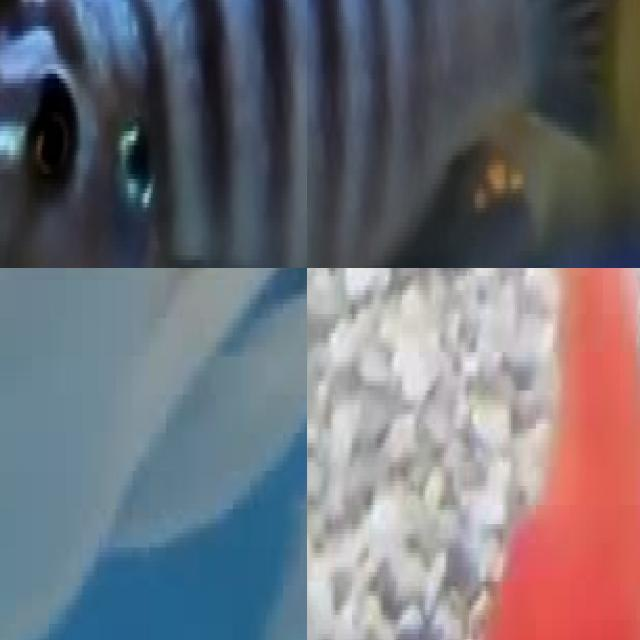fish: (0, 0, 307, 268), (307, 208, 640, 268)
